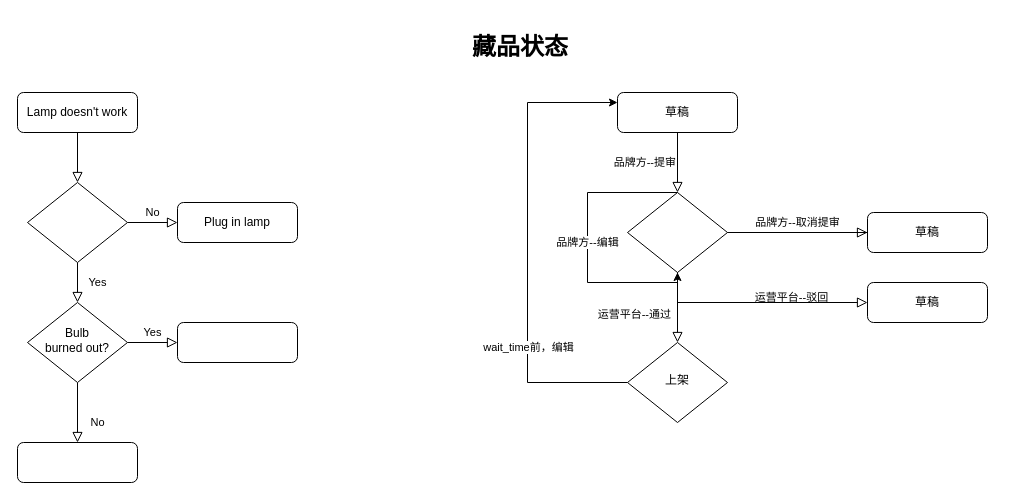
This 1015x500 diagram has some shape labels left out. Each missing label, with the box of its shape:
Lamp plugged in?: (26, 182, 128, 262)
Repair Lamp: (16, 442, 138, 482)
Replace Bulb: (176, 322, 298, 362)
审核中: (626, 192, 728, 272)
